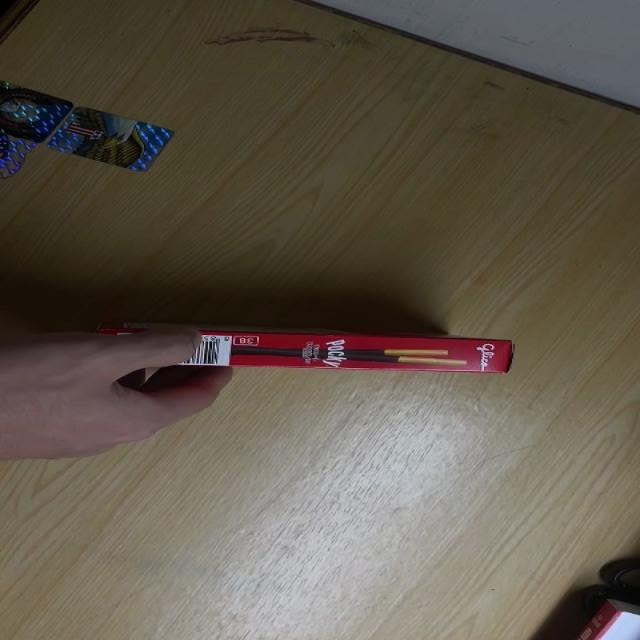Pocky: (95, 318, 518, 374)
